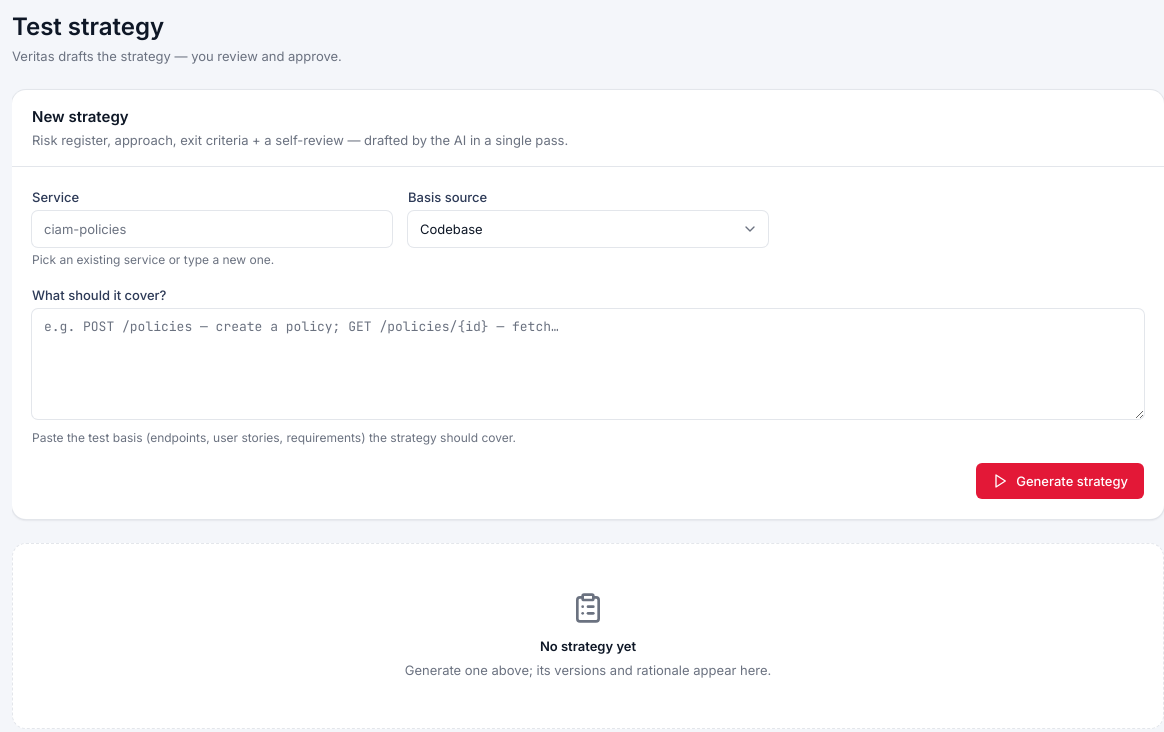
Test case: TestStrategy page › validates that service + basis are required (no POST, shows an error toast)
Note: Click Generate with both fields empty → guard fires, no request.
Click the button "Generate strategy" at {"x": 1060, "y": 481}, box [976,463,1144,499]
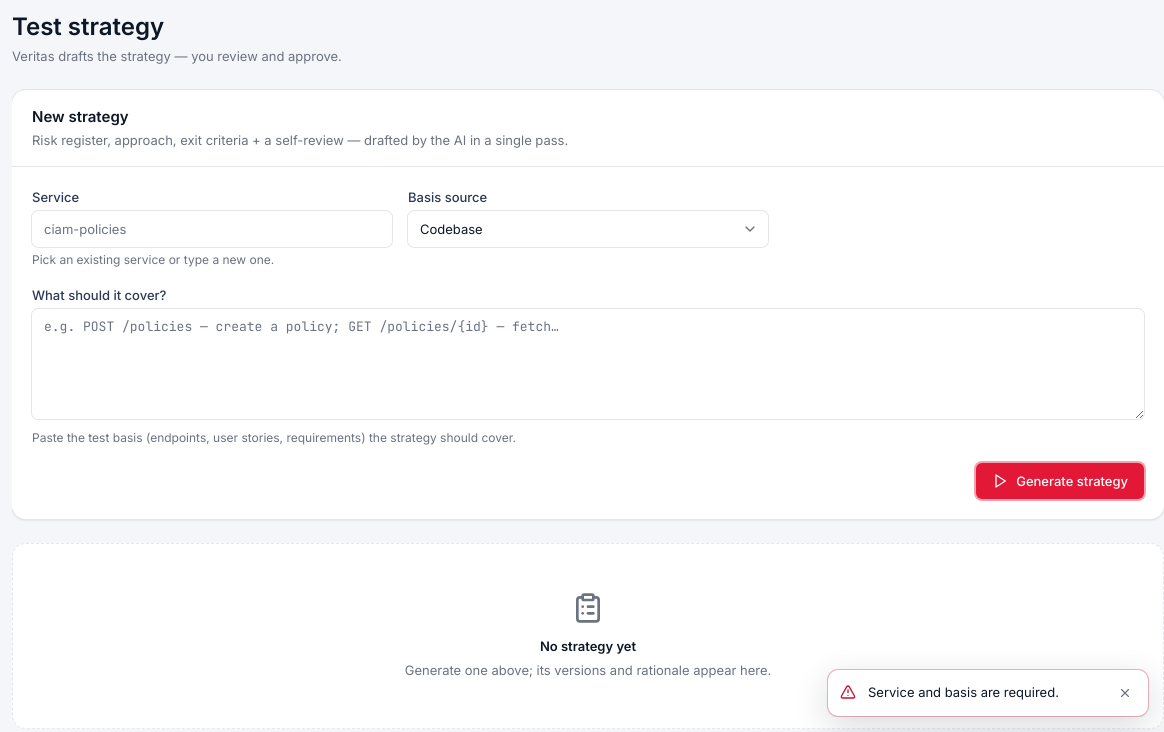
Check: the text "No strategy yet" is shown, box [540,636,636,656]
Check: the text "Service and basis are required." is shown, box [868,684,1059,700]
